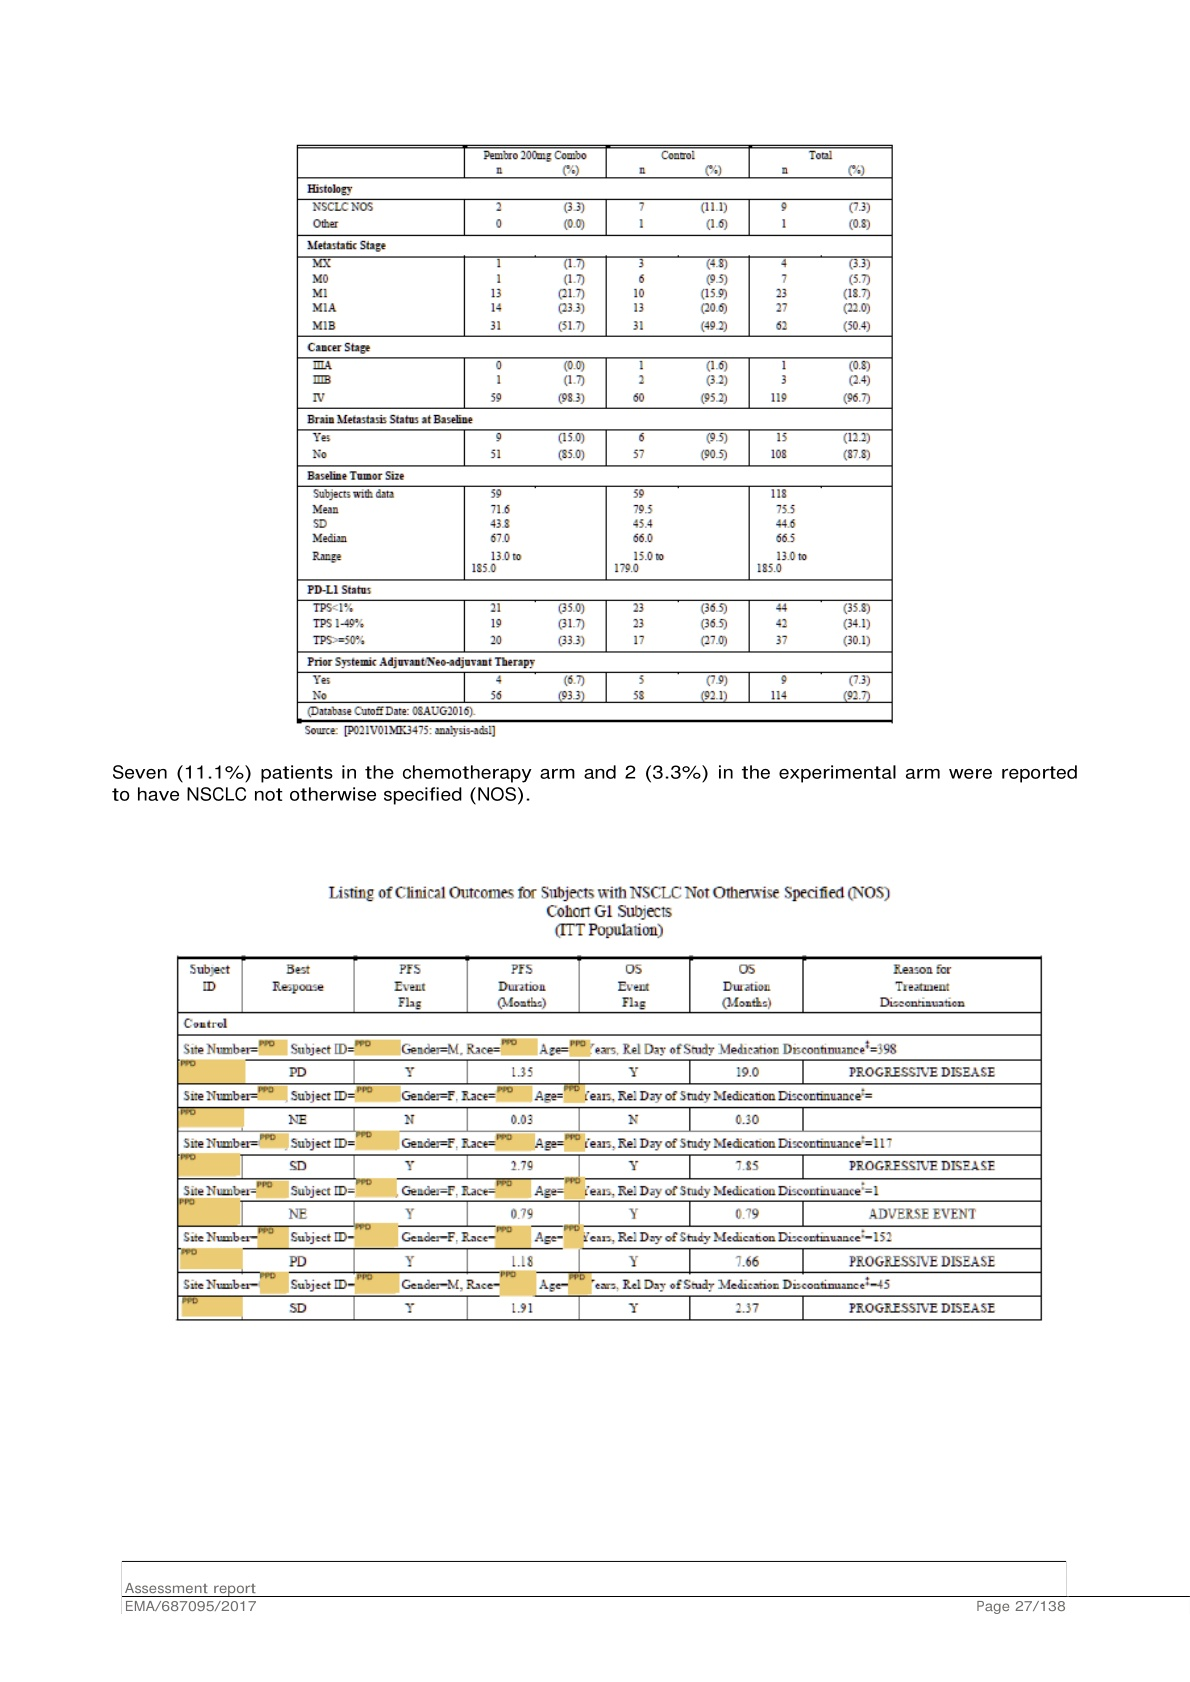merged_cells: (296, 143, 894, 723), (176, 956, 1043, 1321)
